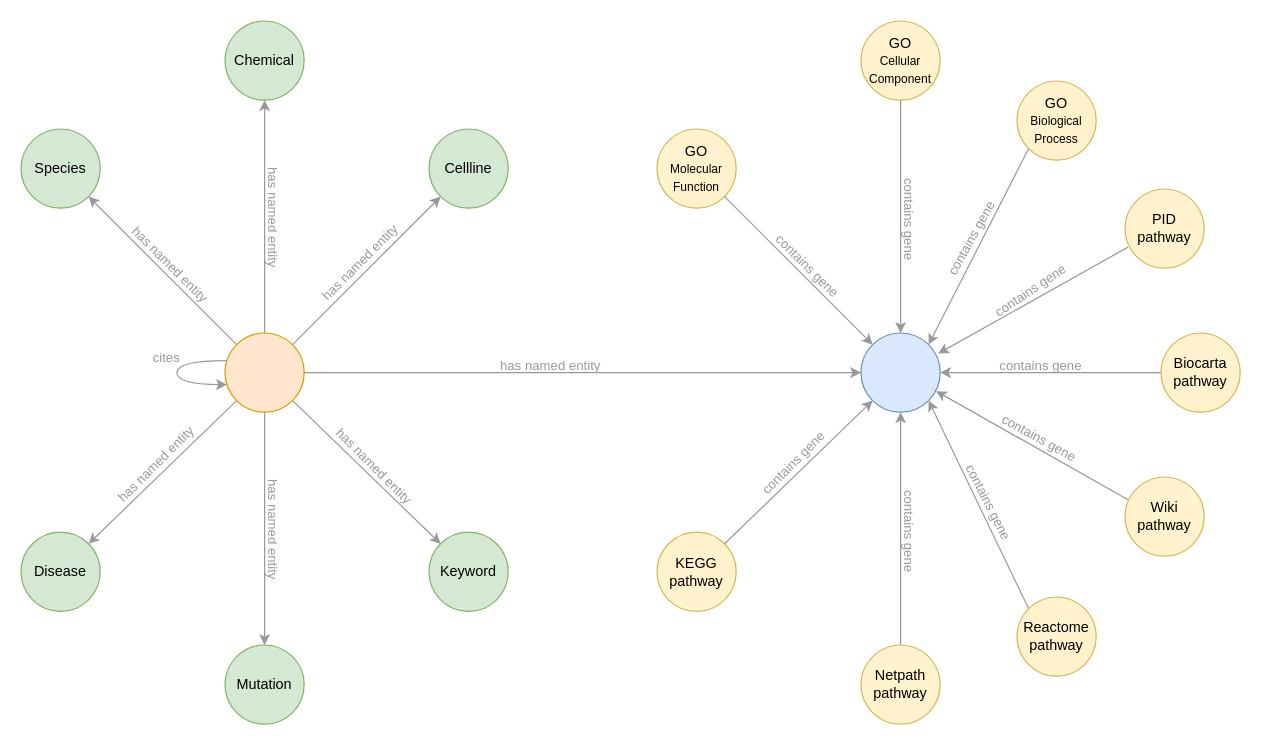
This 1261x745 diagram has some shape labels left out. The centre of each missing label's shape, as x and y in pixels:
Article: the point at 264,372
Gene: the point at 900,372
